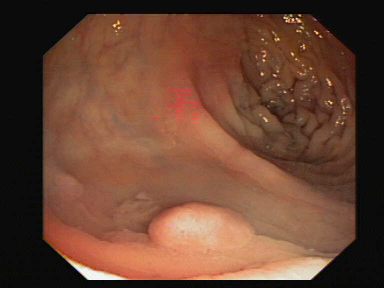polyp: (135, 188, 285, 267)
